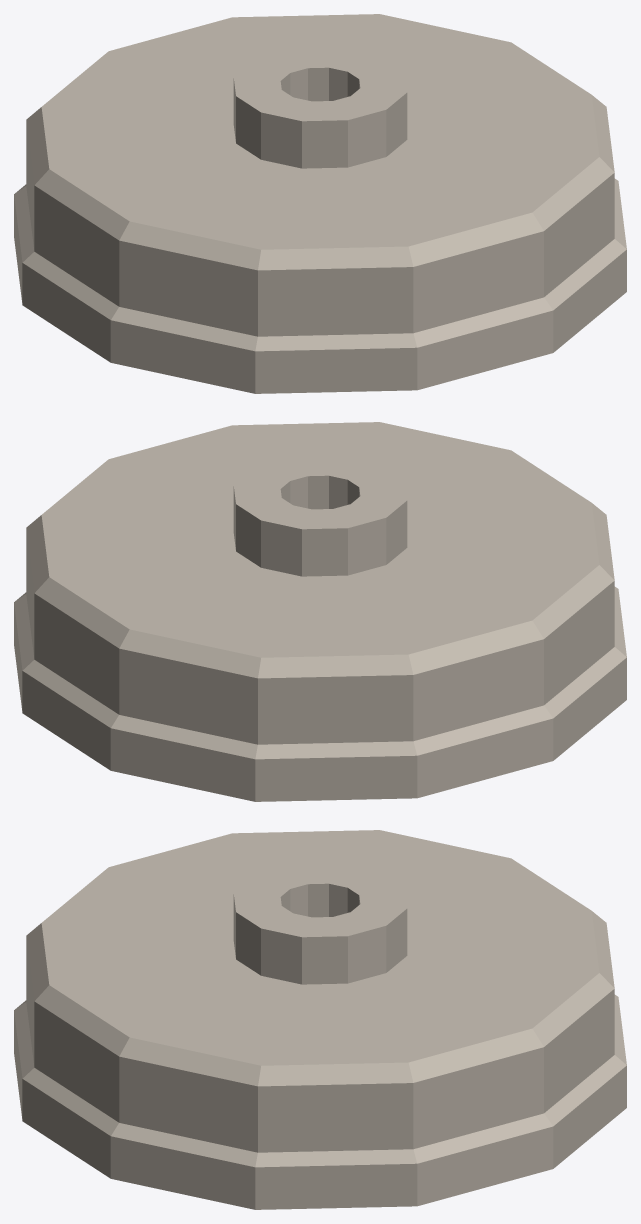
File: SM_Clutter_UmbrellaBase_01.fbx
3 views of the same model, one above another, from view 1: azimuth 30°, elevation 25°; view 2: azimuth 150°, elevation 25°; view 3: azimuth 270°, elevation 25° (orthographic).
Parts seen in each view (by area): view 1: SM_Clutter_UmbrellaBase_01; view 2: SM_Clutter_UmbrellaBase_01; view 3: SM_Clutter_UmbrellaBase_01.
Part boxes in pixels (x1=…): SM_Clutter_UmbrellaBase_01: x1=14, y1=14, x2=626, y2=393; SM_Clutter_UmbrellaBase_01: x1=14, y1=422, x2=626, y2=801; SM_Clutter_UmbrellaBase_01: x1=14, y1=830, x2=626, y2=1209.
Bounding box in the file's own units: 0.5869 × 0.19 × 0.5869.
1 material, 1 textured.
